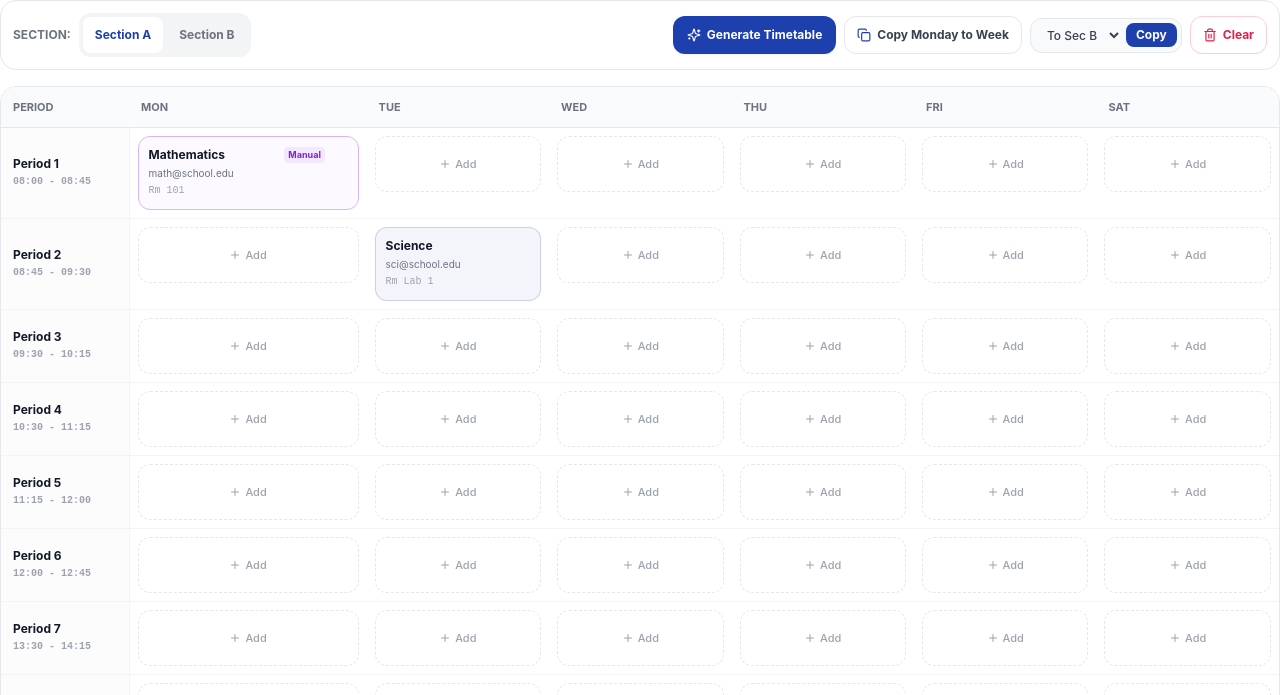
Milestone 3 Challenger 2: Mobile Reflow, Click Budget & UI Invariants › 3. Generator Preview Modal 3-Tier Report Rendering › should render clean zero-clash banner and fully-allocated banner when no issues exist
Click the button "Generate Timetable".
click(755, 35)  # box [673,16,836,54]
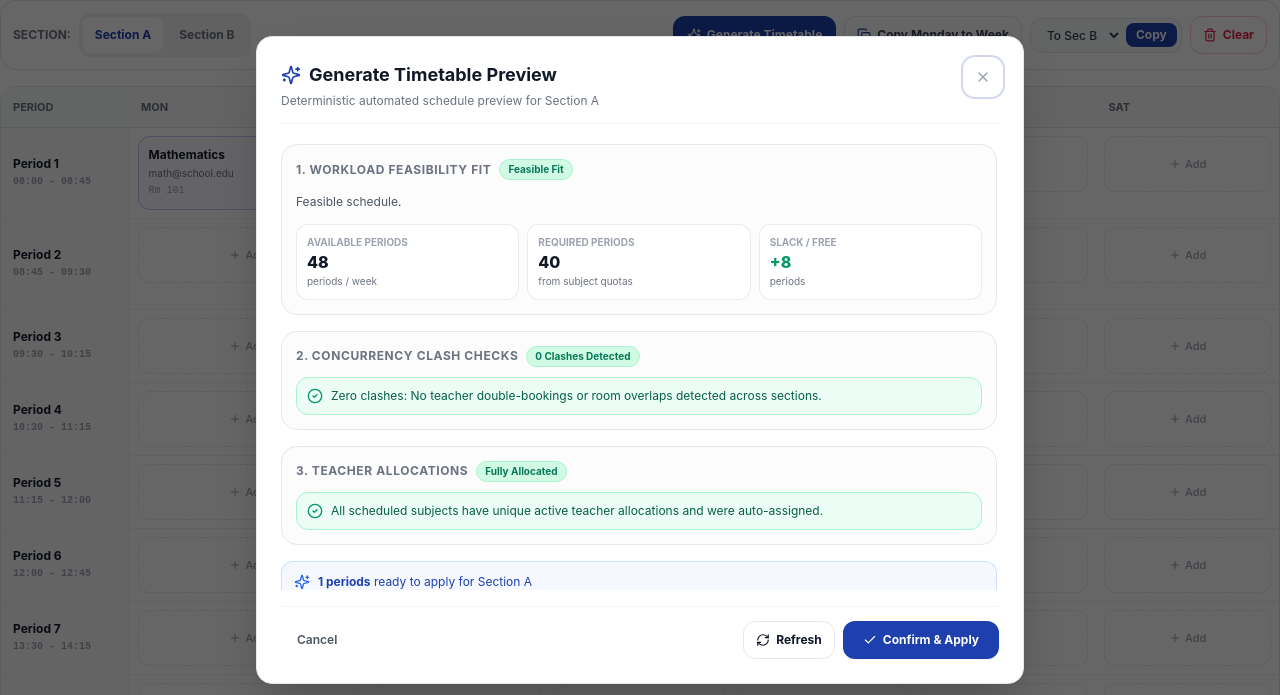
Check: the text "0 Clashes Detected" is shown, box [526,346,640,366]
Check: the text "Fully Allocated" is shown, box [476,460,567,482]
Check: the text "Zero clashes: No teacher double-bookings or room overlaps" is shown, box [331,388,822,402]
